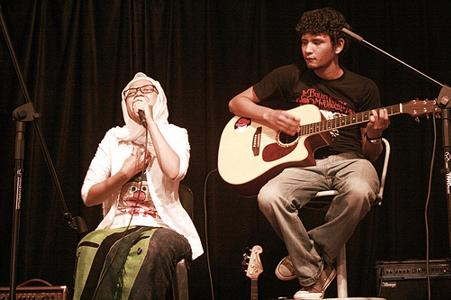person: (230, 8, 390, 299)
